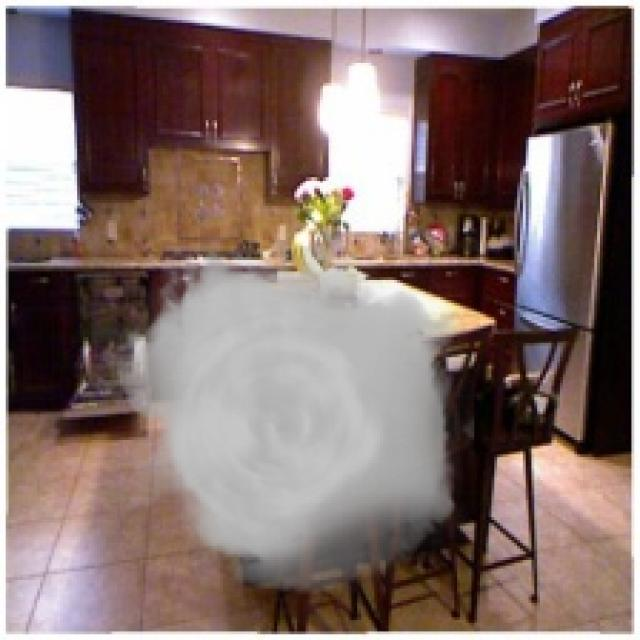smoke: (106, 246, 474, 594)
